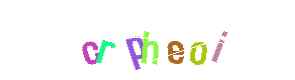C: (63, 0, 143, 80)
E: (125, 0, 205, 80)
H: (112, 0, 192, 80)
I: (158, 0, 238, 80)
O: (135, 0, 215, 80)
P: (107, 0, 187, 80)
R: (95, 0, 175, 80)
